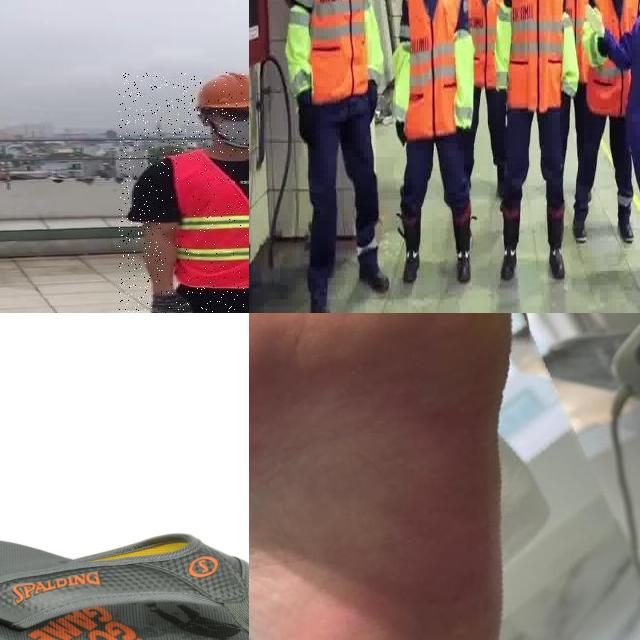Barefoots: (249, 313, 640, 640)
Sandals: (0, 528, 249, 640)
boots: (356, 261, 389, 290), (402, 253, 420, 284), (548, 251, 566, 279), (455, 254, 471, 282), (570, 218, 587, 241), (310, 297, 334, 313), (500, 256, 518, 277), (619, 222, 635, 242)
hand_glove: (296, 88, 314, 140), (367, 76, 378, 122), (454, 125, 471, 146), (495, 85, 507, 114), (394, 122, 406, 146)
head_helmet: (195, 69, 249, 109)
person: (273, 0, 391, 313), (119, 73, 249, 313), (395, 0, 476, 293), (502, 0, 575, 287)
vest: (164, 152, 249, 287), (404, 0, 464, 140), (505, 0, 565, 111), (301, 0, 367, 100), (589, 0, 640, 118), (466, 0, 506, 85), (563, 0, 594, 81)
